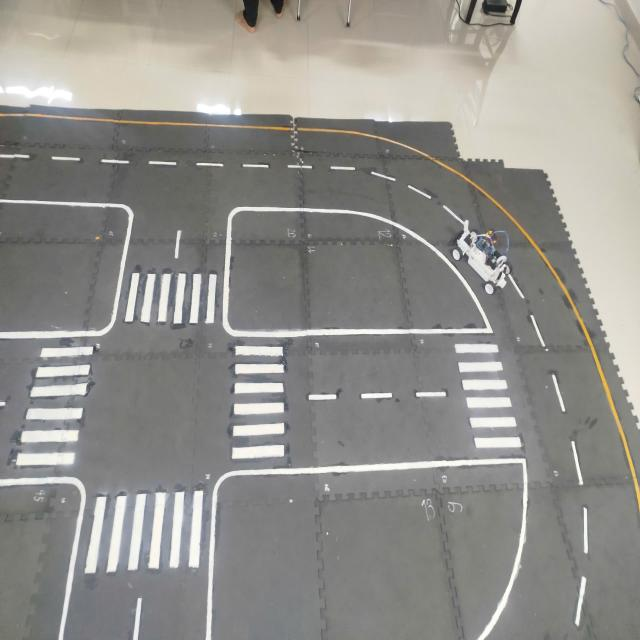SiCo-CAR: (442, 204, 512, 296)
